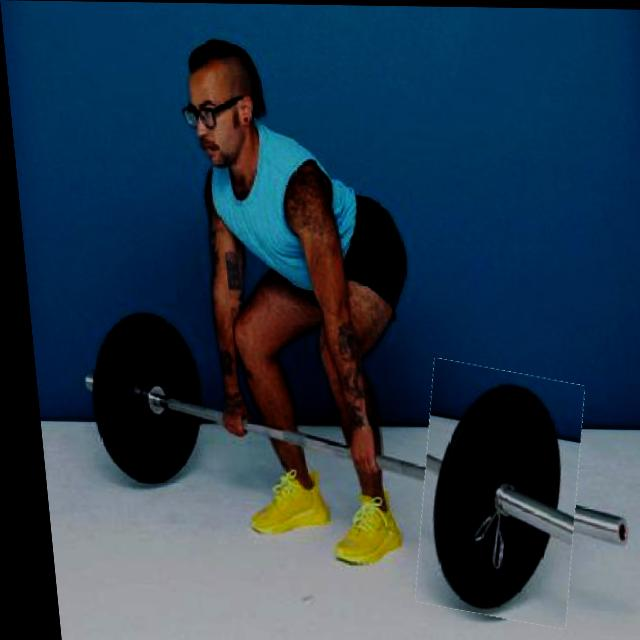barbell: (396, 363, 585, 624)
